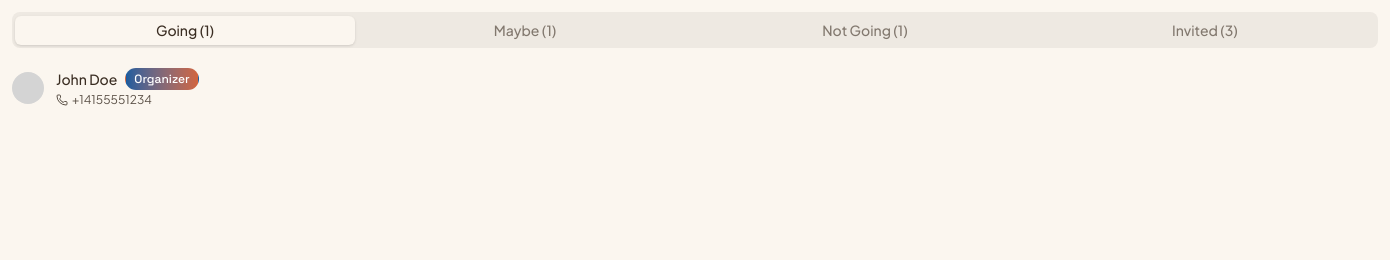
Test: MembersList › Invited tab content › shows sent date for pending invitations
This screenshot has width=1390, height=260.
Click the tab "Invited (3)" at (1205, 30), box [1035, 16, 1375, 44]
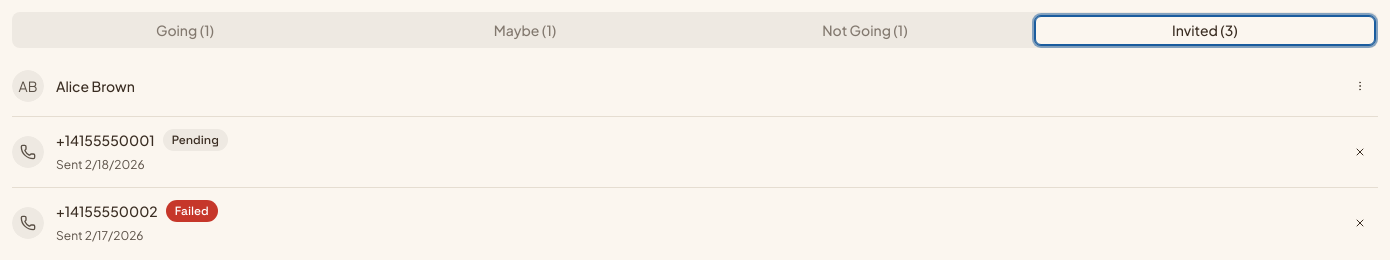
Check: the text "Sent 2/18/2026" is shown 2 times, box [56, 157, 145, 172]; [56, 228, 144, 243]
